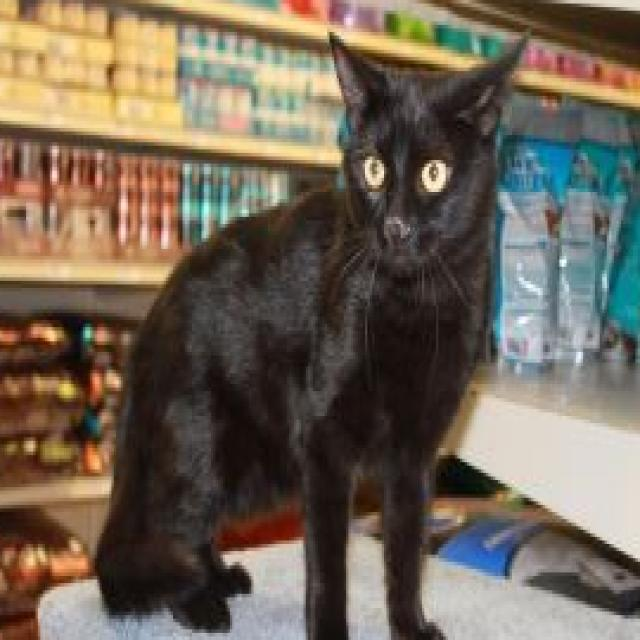Bombay: (97, 25, 531, 640)
